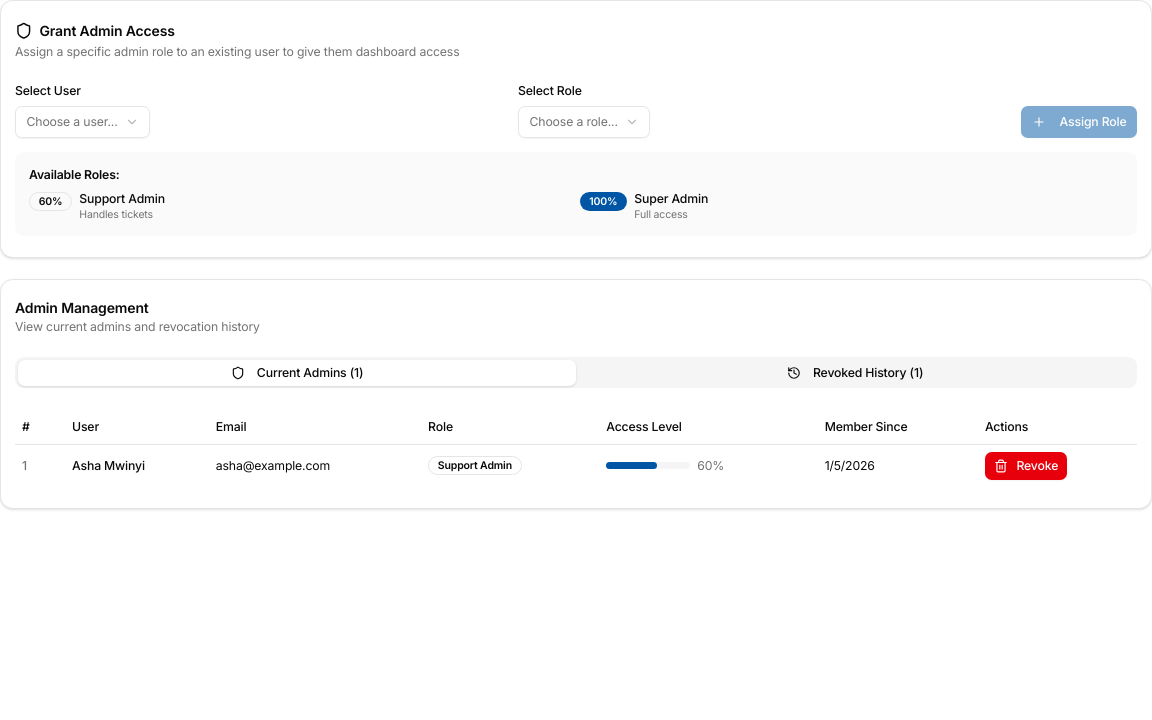
Test: AdminUsersManagementTab › grant admin access › disables the Assign Role button until both a user and role are selected
Expected: the button "Assign Role" is disabled, [1021,106,1137,138]
Click the dropdown "Choose a user...": (83, 122) [15,106,150,138]
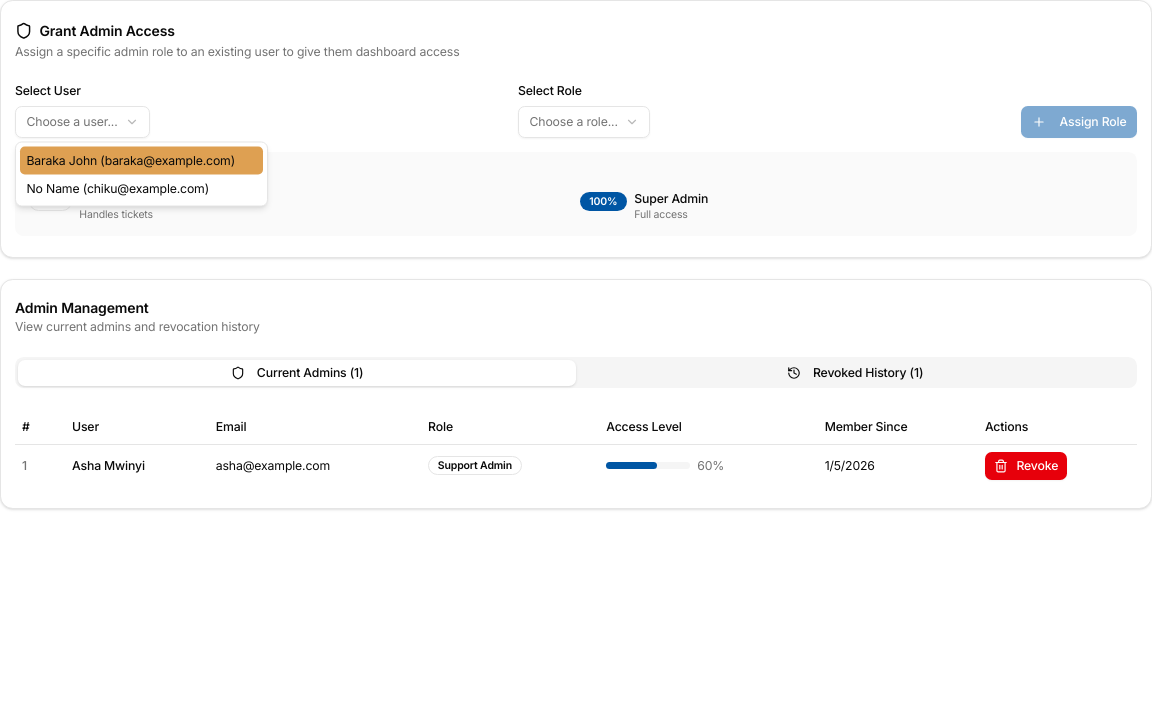
Click the option "Baraka John (baraka@example.com)": (141, 160) [20,146,263,174]
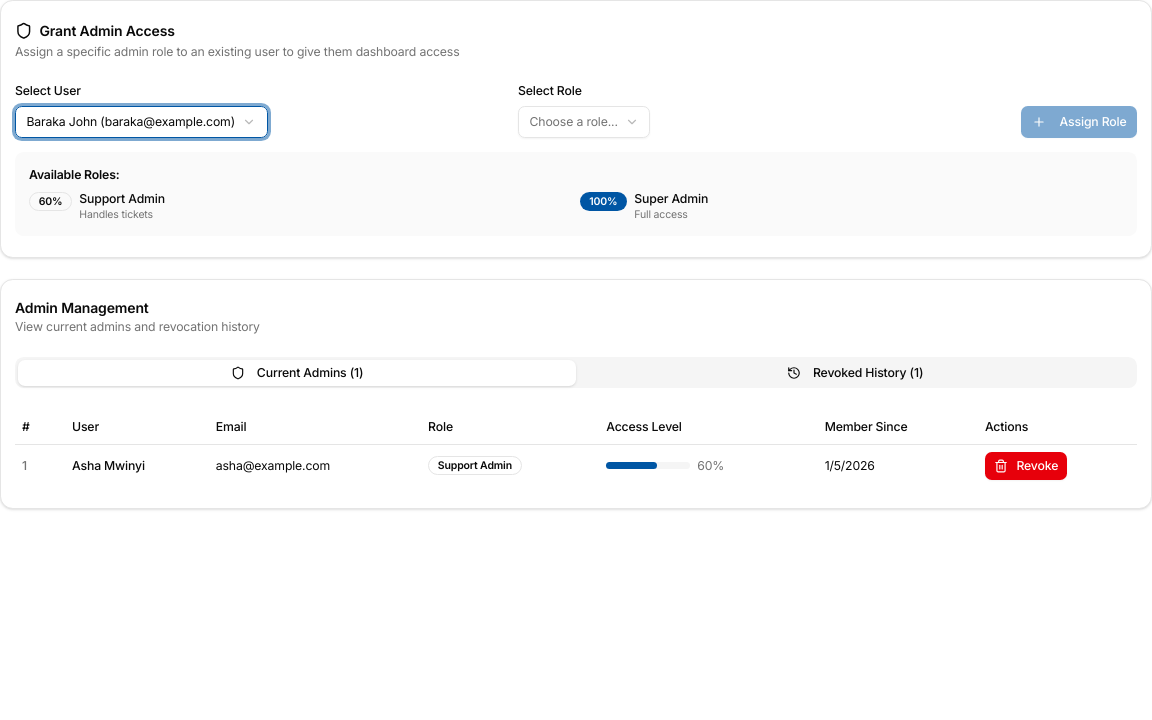
Expected: the button "Assign Role" is disabled, [1021,106,1137,138]
Click the dropdown "Choose a role...": (584, 122) [518,106,650,138]
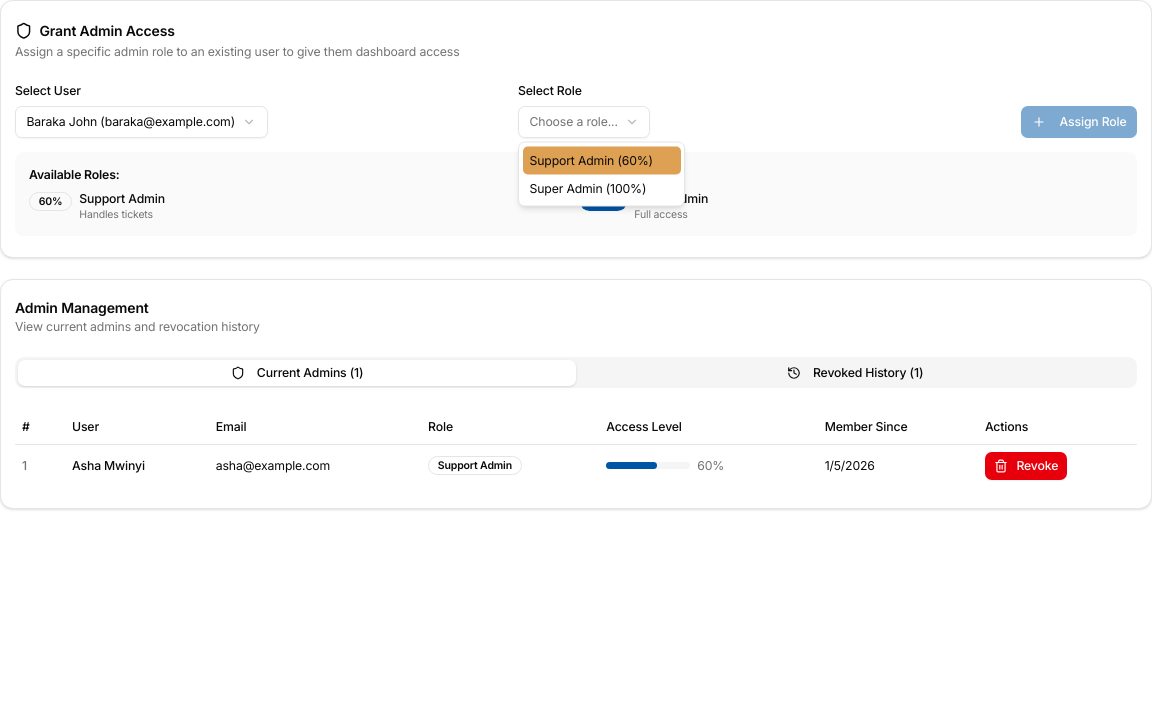
Click the option "Support Admin (60%)": (602, 160) [522,146,681,174]
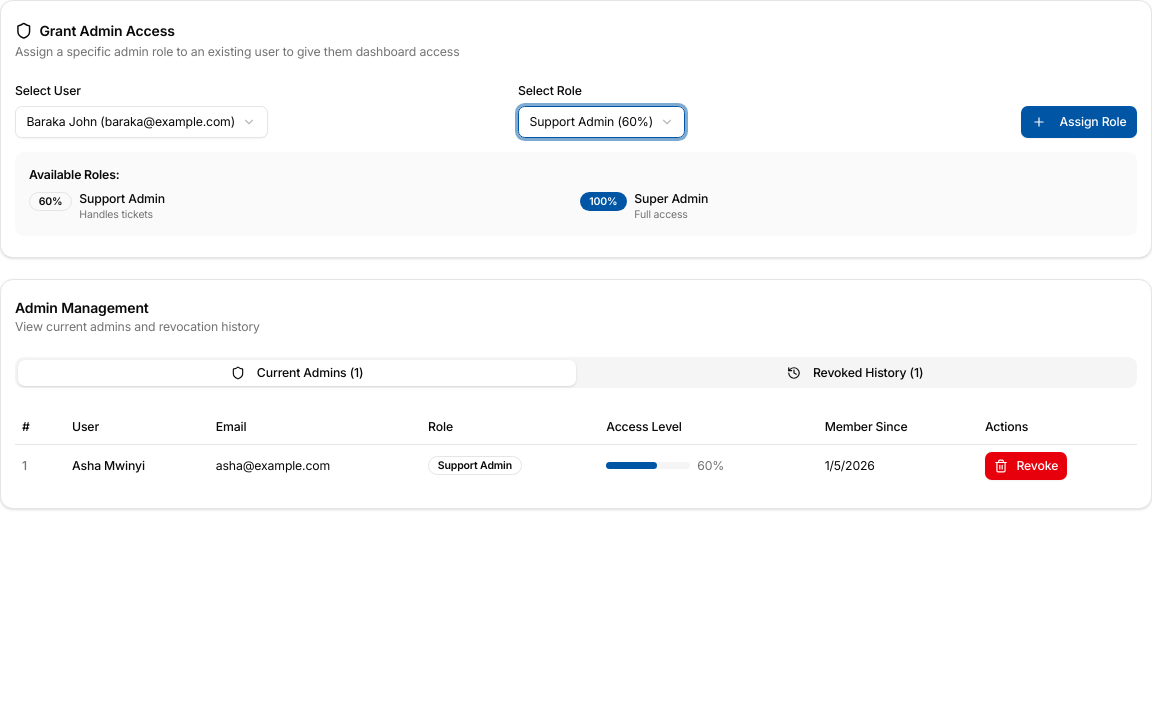
Expected: the button "Assign Role" is enabled, [1021,106,1137,138]
